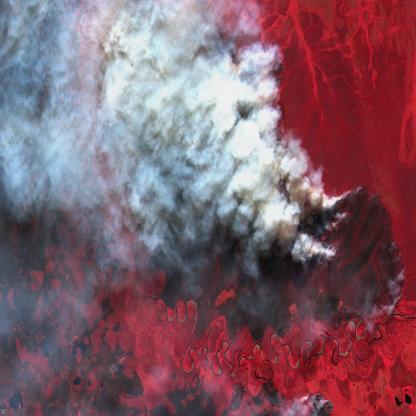fire: (241, 44, 408, 332), (261, 380, 337, 416)
